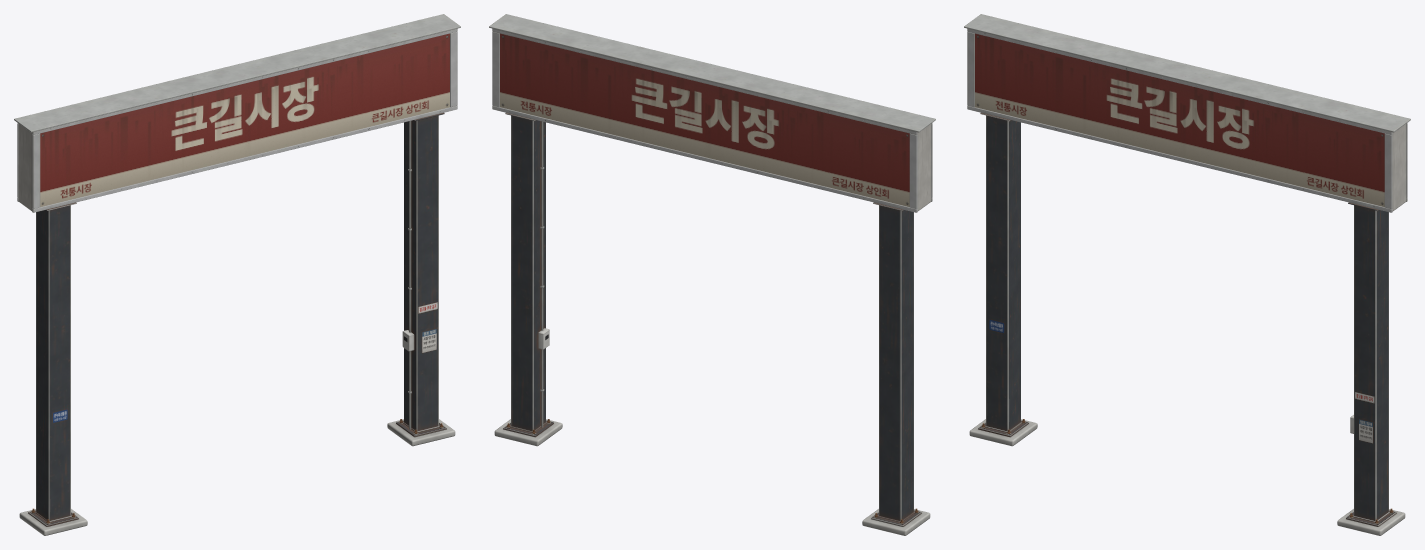
File: BuildingMarketGate.fbx
3 views of the same model, side by side, from view 1: azimuth 30°, elevation 25°; view 2: azimuth 150°, elevation 25°; view 3: azimuth 330°, elevation 25° (orthographic).
Visible parts, largest first — view 1: BuildingMarketGate; view 2: BuildingMarketGate; view 3: BuildingMarketGate.
Part boxes in pixels (left/top/right/bottom): BuildingMarketGate: left=14, top=14, right=460, bottom=535; BuildingMarketGate: left=489, top=14, right=935, bottom=535; BuildingMarketGate: left=964, top=14, right=1410, bottom=535.
Size of the model in its own units: 6.08 by 5.47 by 0.62.
